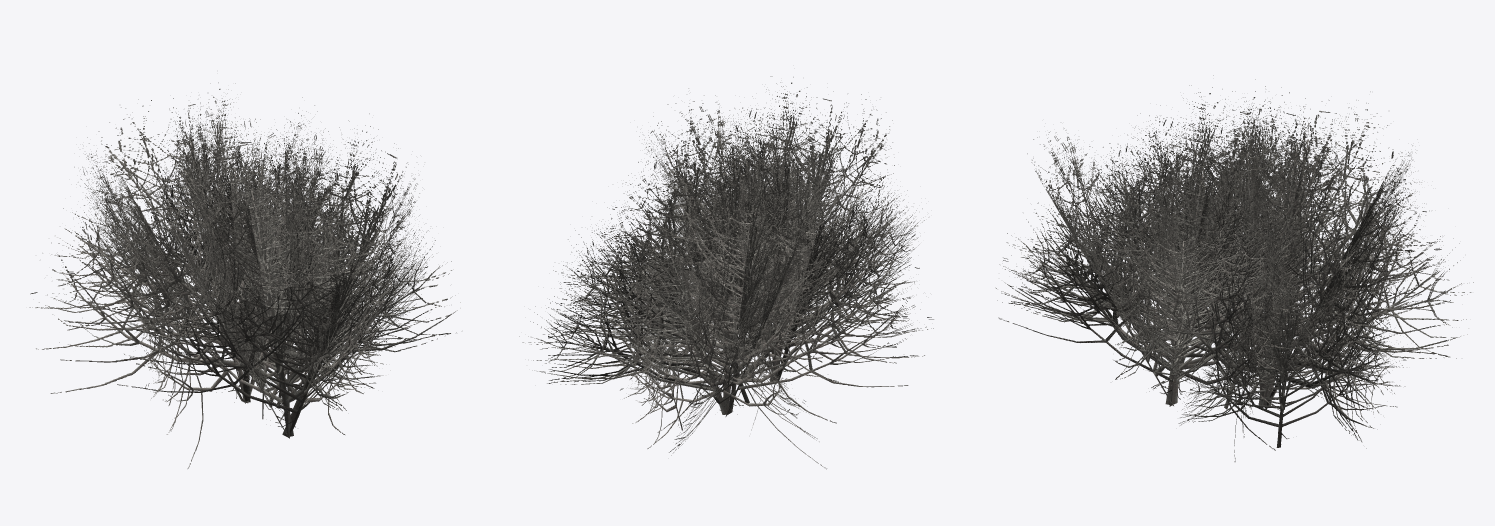
Rendered from africanThornBush_02.DAE.
3 views of the same model, side by side, from view 1: azimuth 30°, elevation 25°; view 2: azimuth 150°, elevation 25°; view 3: azimuth 270°, elevation 25° (orthographic). The views are drawn at different scales.
Parts seen in each view (by area): view 1: africaThornTwo128, africaThornTwo256; view 2: africaThornTwo256, africaThornTwo128; view 3: africaThornTwo256, africaThornTwo128.
Boxes of the visible parts, left/top/right/bottom form: africaThornTwo128: left=32, top=82, right=455, bottom=468; africaThornTwo256: left=29, top=89, right=460, bottom=468; africaThornTwo256: left=519, top=76, right=933, bottom=469; africaThornTwo128: left=547, top=76, right=931, bottom=468; africaThornTwo256: left=995, top=85, right=1473, bottom=461; africaThornTwo128: left=999, top=79, right=1448, bottom=461.
Size of the model in its own units: 4.91 by 6.09 by 5.26.
